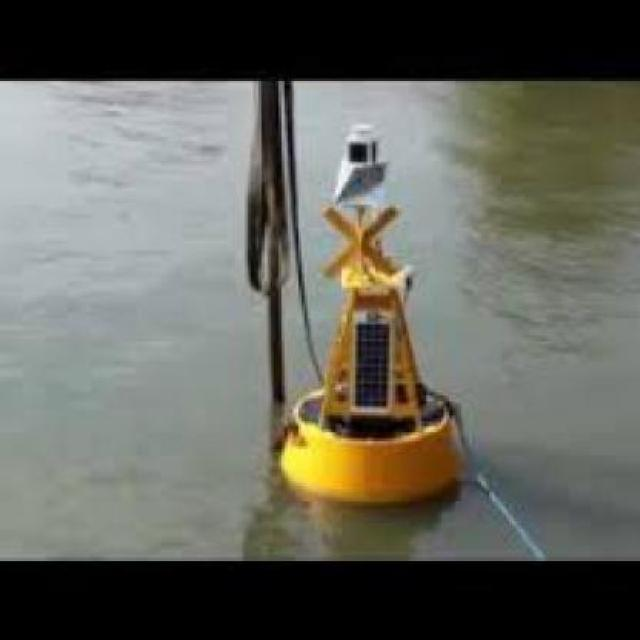buoy: (234, 80, 493, 519)
